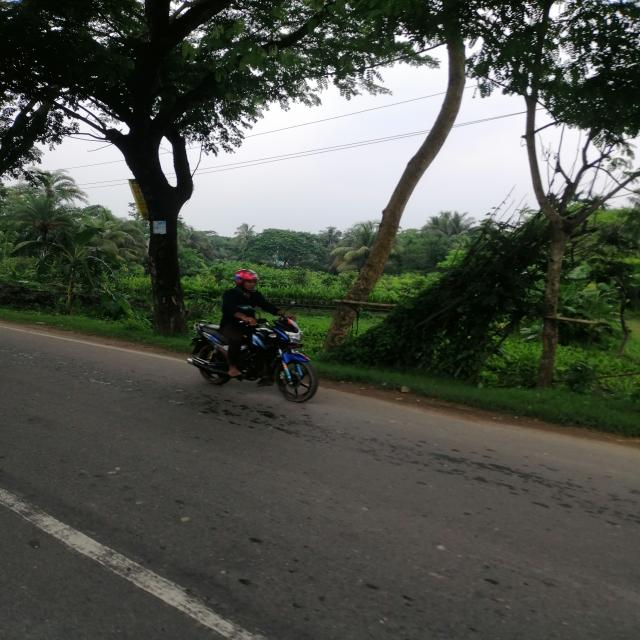Motorbike: (185, 309, 324, 409)
